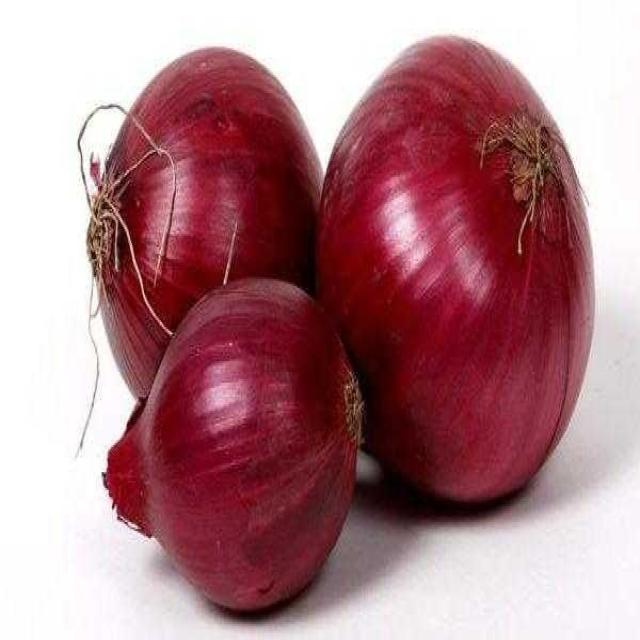onion: (318, 34, 603, 513), (75, 43, 328, 422), (100, 279, 366, 615)
